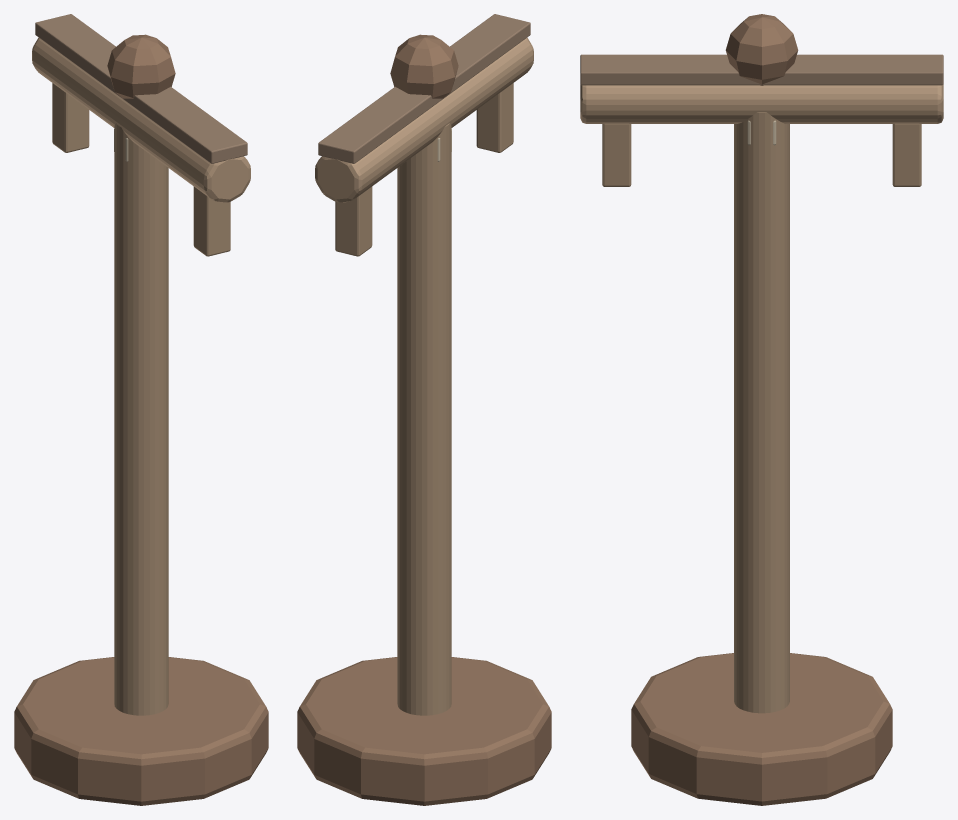
The model's file is falconer_perch_v2.glb.
The picture shows the model from 3 angles, left to right: view 1: azimuth 30°, elevation 25°; view 2: azimuth 150°, elevation 25°; view 3: azimuth 270°, elevation 25°; orthographic projection. The views are drawn at different scales.
Visible parts, largest first — view 1: Post, Base, Perch_Bar, Pad, Knot, Support_L, Support_R; view 2: Post, Base, Perch_Bar, Pad, Knot, Support_R, Support_L; view 3: Post, Base, Perch_Bar, Pad, Knot, Support_L, Support_R.
Boxes of the visible parts, x1,y1,x2,y2 form: Post: [114, 123, 168, 715]; Base: [14, 657, 268, 805]; Perch_Bar: [32, 37, 250, 202]; Pad: [35, 14, 247, 163]; Knot: [107, 34, 175, 98]; Support_L: [193, 186, 230, 256]; Support_R: [52, 83, 89, 152]; Post: [397, 123, 451, 715]; Base: [297, 657, 551, 805]; Perch_Bar: [315, 37, 533, 202]; Pad: [318, 14, 530, 163]; Knot: [390, 34, 458, 98]; Support_R: [335, 186, 372, 256]; Support_L: [476, 83, 513, 152]; Post: [734, 112, 789, 713]; Base: [631, 653, 892, 805]; Perch_Bar: [580, 84, 943, 123]; Pad: [580, 54, 943, 85]; Knot: [725, 14, 798, 85]; Support_L: [602, 123, 631, 186]; Support_R: [892, 123, 921, 186].
Size of the model in its own units: 0.36 by 1.12 by 0.5.
